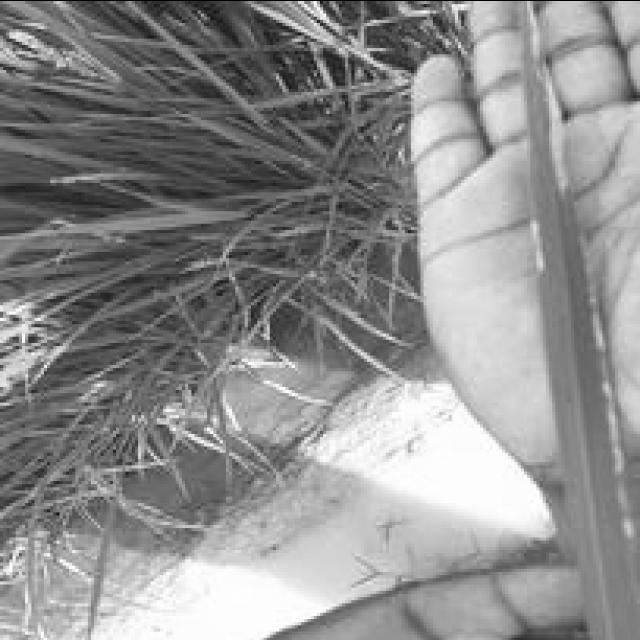Bacterial_Leaf_Blight: (568, 192, 637, 556), (512, 163, 552, 289)
